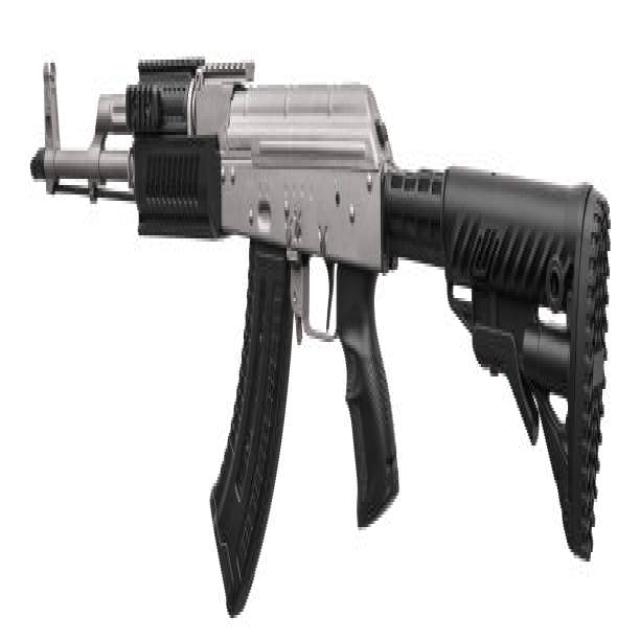rifle: (21, 30, 614, 624)
